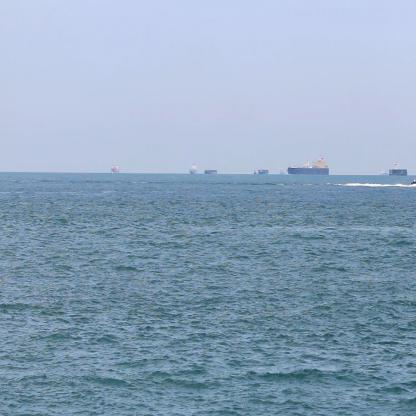Container Ship: (288, 153, 330, 176), (387, 160, 408, 176), (111, 162, 120, 175), (189, 162, 198, 174), (204, 167, 218, 174), (377, 169, 388, 177), (257, 168, 270, 174), (278, 166, 285, 176), (253, 167, 258, 174)
